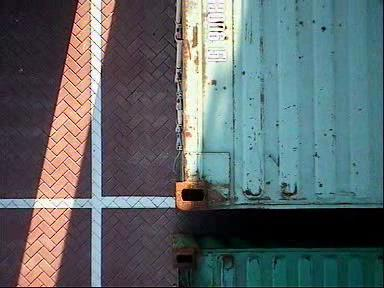groundmarker_2: (54, 195, 135, 245)
